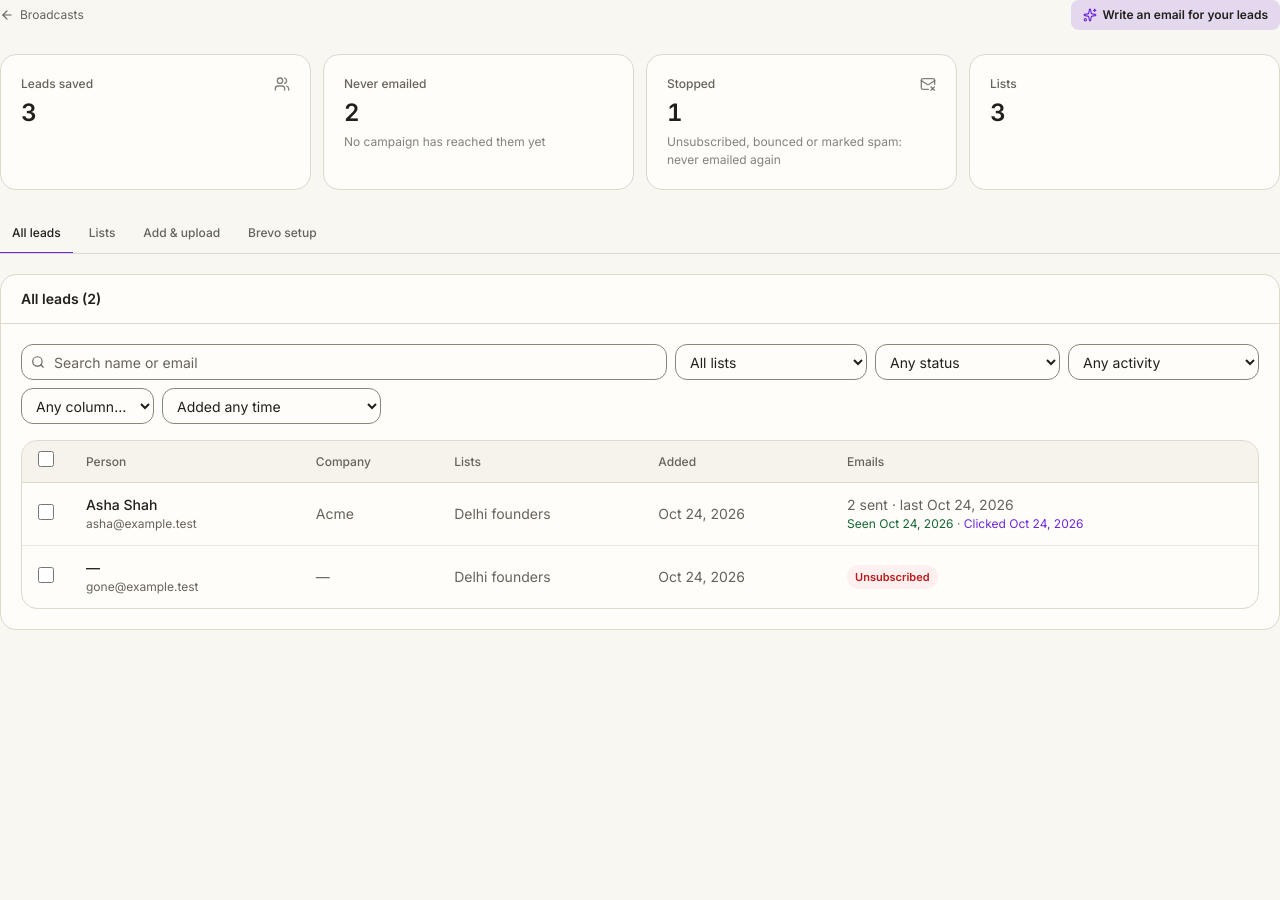
Test: the Leads page › a lead opens with their details, lists and emails; changes are saved
Click the button with aria-label "Open asha@example.test" at (141, 514), box [86, 495, 197, 533]
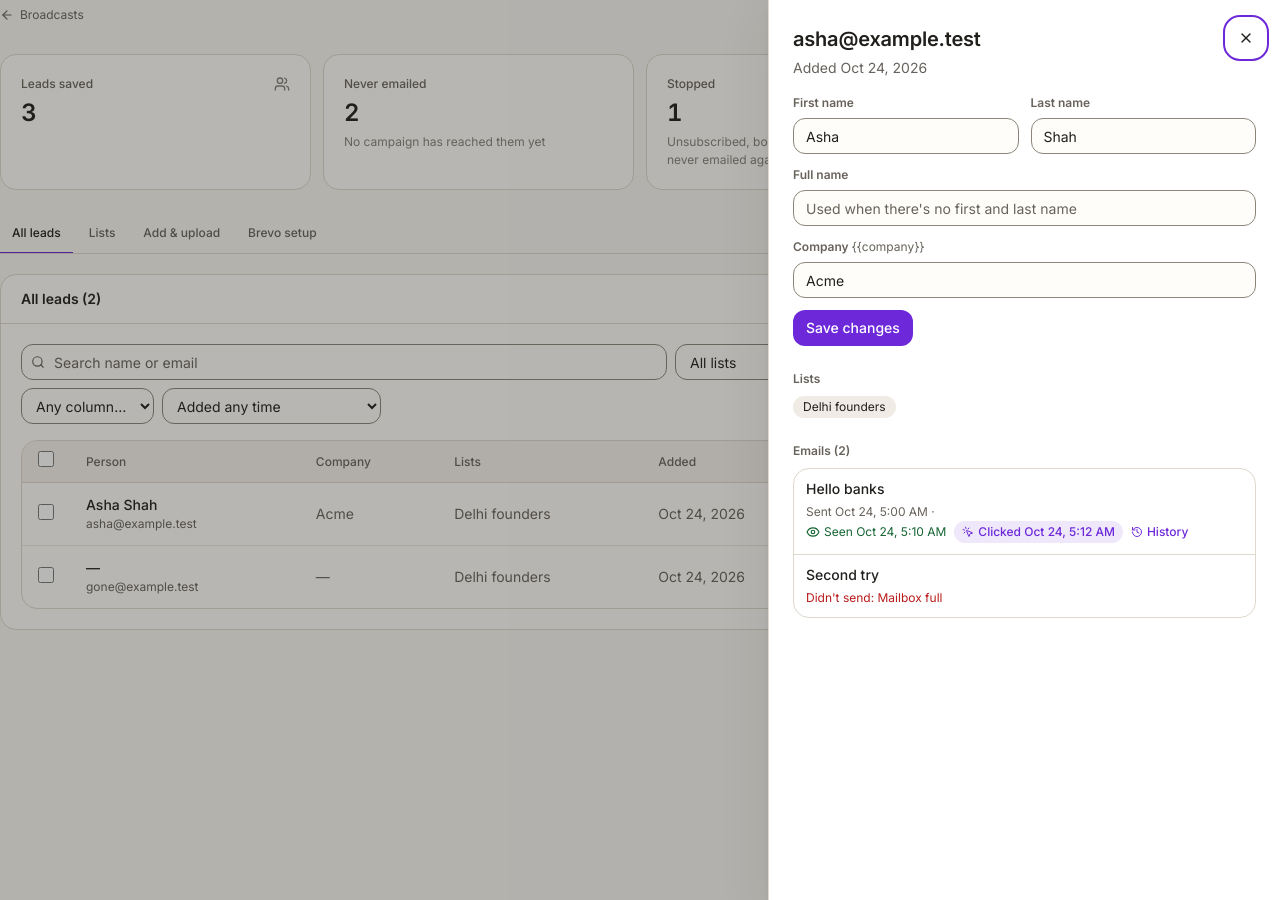
Now the field labelled "First name" holds "Asha", box [793, 118, 1018, 154]
Now the text "Delhi founders" is shown, box [793, 396, 896, 418]
Now the text "Seen Oct 24, 5:10 AM" is shown, box [806, 523, 946, 541]
Replace the text in the field labelled "Company {{company}}" with "Acme Inc" at (1024, 280), box [793, 262, 1256, 298]
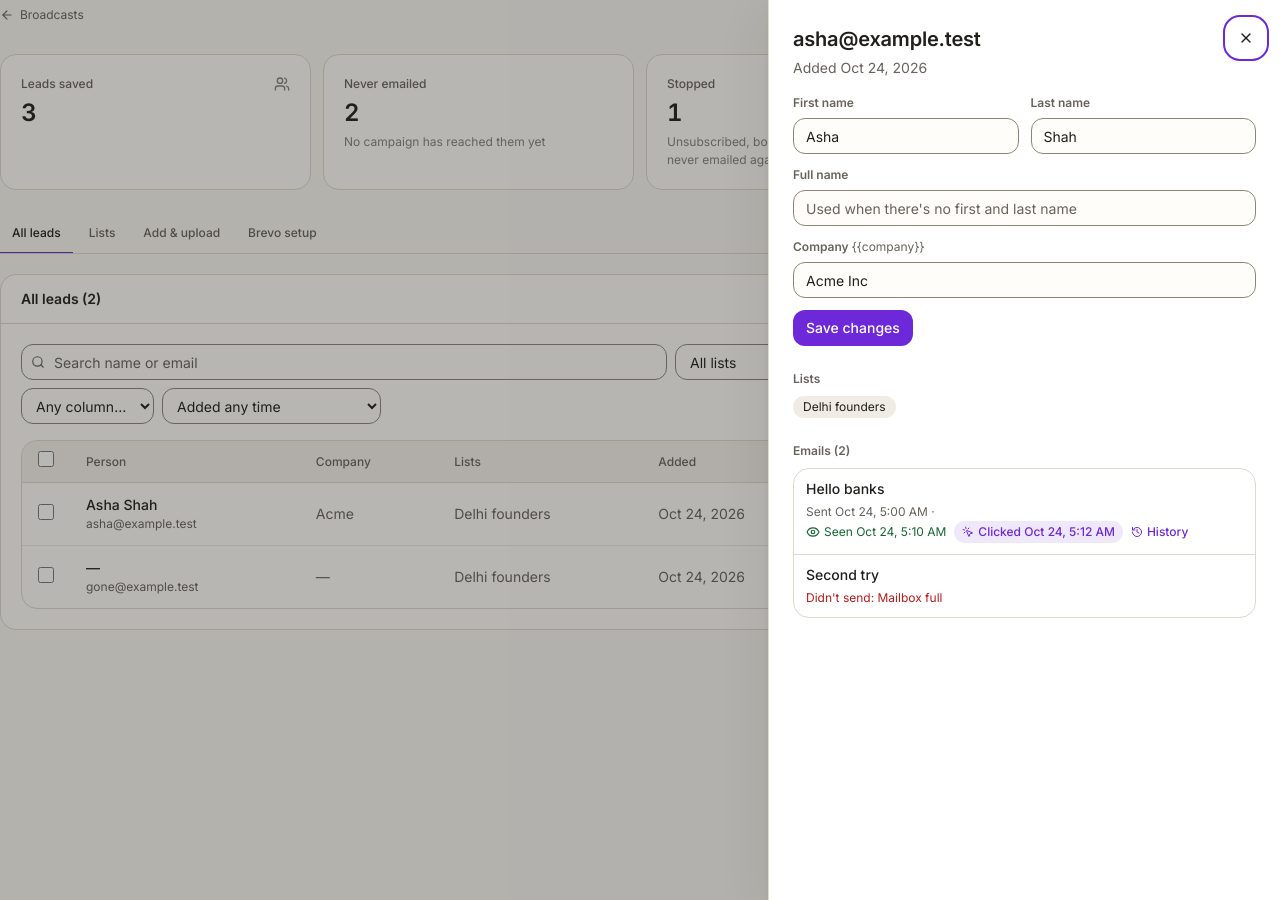
Click the button "Save changes" at (853, 328), box [793, 310, 913, 346]
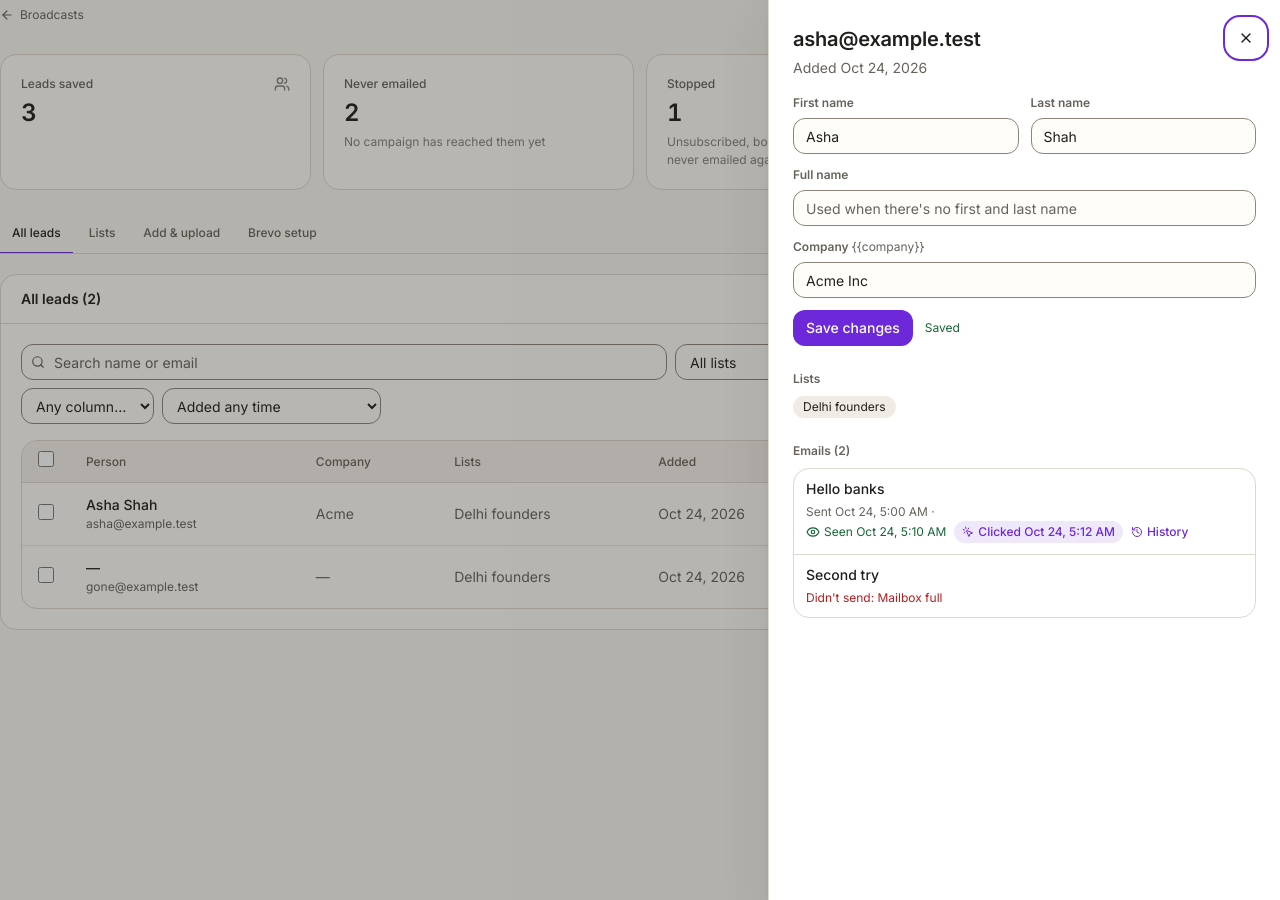
Now the text "Saved" is shown, box [925, 319, 960, 337]
